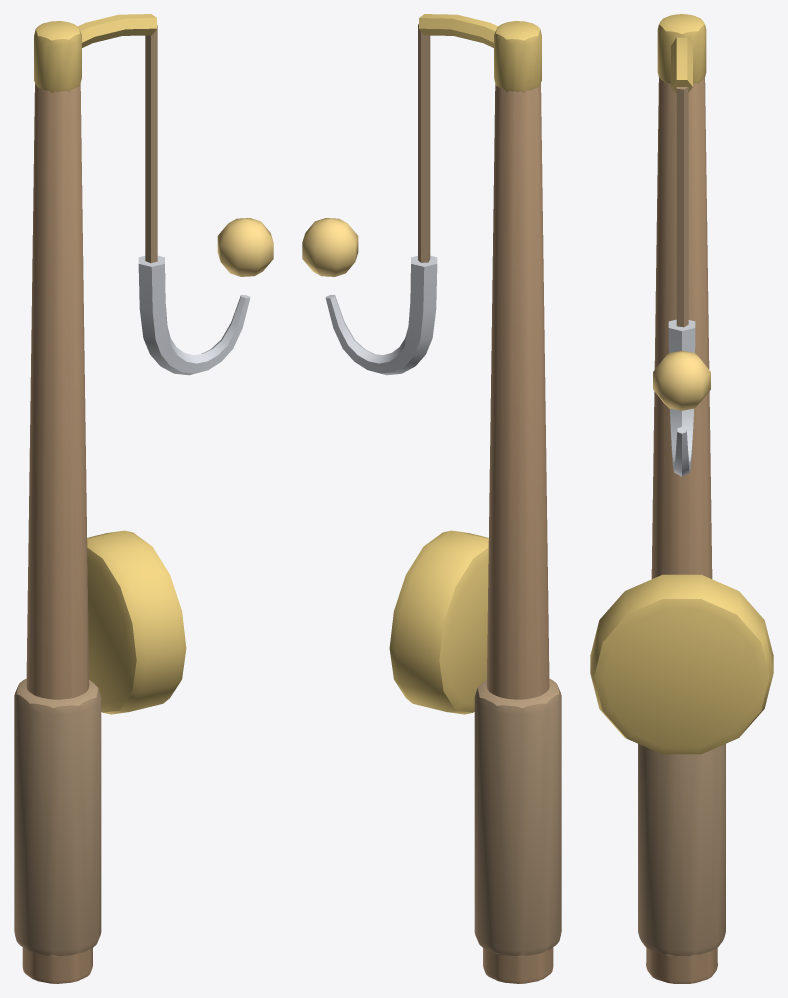
The model's file is DelversHook.fbx.
3 views of the same model, side by side, from view 1: azimuth 30°, elevation 25°; view 2: azimuth 150°, elevation 25°; view 3: azimuth 270°, elevation 25° (orthographic).
Parts seen in each view (by area): view 1: Handle, Grip, Reel, Hook, Tip, Line, Glow, TipArm; view 2: Handle, Grip, Reel, Hook, Tip, Line, Glow, TipArm; view 3: Reel, Handle, Grip, Line, Glow, Tip, Hook, TipArm.
Boxes of the visible parts, x1,y1,x2,y2 form: Handle: (22,83,92,983); Grip: (14,678,101,956); Reel: (87,530,186,714); Hook: (138,255,250,375); Tip: (34,21,81,92); Line: (145,25,157,263); Glow: (217,218,273,276); TipArm: (78,14,157,47); Handle: (483,83,553,983); Grip: (474,678,561,956); Reel: (389,530,488,714); Hook: (325,255,437,375); Tip: (494,21,541,92); Line: (418,24,430,262); Glow: (302,218,358,276); TipArm: (418,14,497,47); Reel: (590,574,773,754); Handle: (646,77,717,983); Grip: (638,744,725,955); Line: (676,87,688,327); Glow: (653,350,710,410); Tip: (657,14,706,83); Hook: (668,319,695,476); TipArm: (671,37,692,93).
Size of the model in its own units: 1.33 by 4.8 by 0.84.
